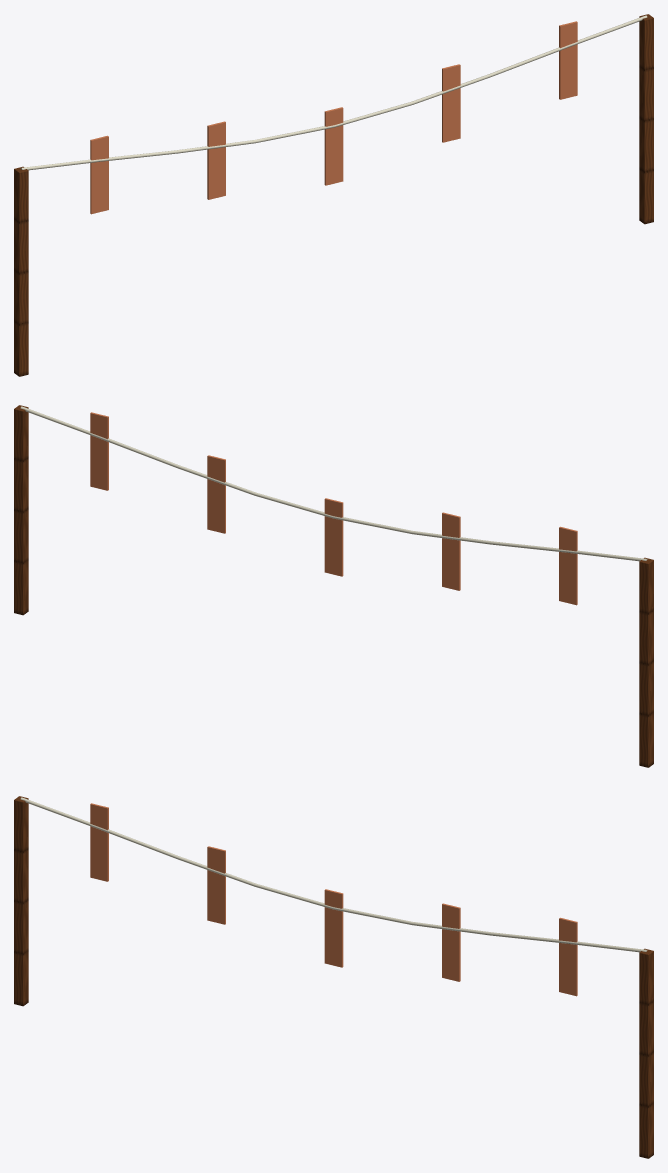
Rendered from extraction-routes-and-objectives-trail-ribbon-line-16df70c2__22135.glb.
3 views of the same model, one above another, from view 1: azimuth 30°, elevation 25°; view 2: azimuth 150°, elevation 25°; view 3: azimuth 330°, elevation 25° (orthographic).
Parts seen in each view (by area): view 1: trail-ribbon-line; view 2: trail-ribbon-line; view 3: trail-ribbon-line.
Part boxes in pixels (x1=…): trail-ribbon-line: x1=14, y1=14, x2=653, y2=376; trail-ribbon-line: x1=14, y1=405, x2=653, y2=767; trail-ribbon-line: x1=14, y1=796, x2=653, y2=1158.
Size of the model in its own units: 1.62 by 0.53 by 0.025.
Materials: 3 (1 with a texture image).
